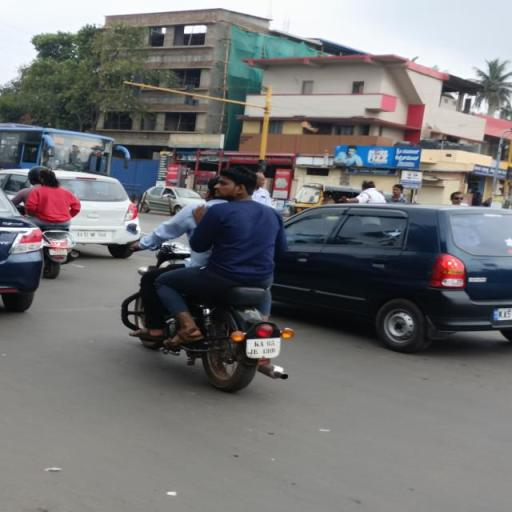bike: (116, 159, 310, 395)
withouthelmet: (219, 167, 257, 199)
